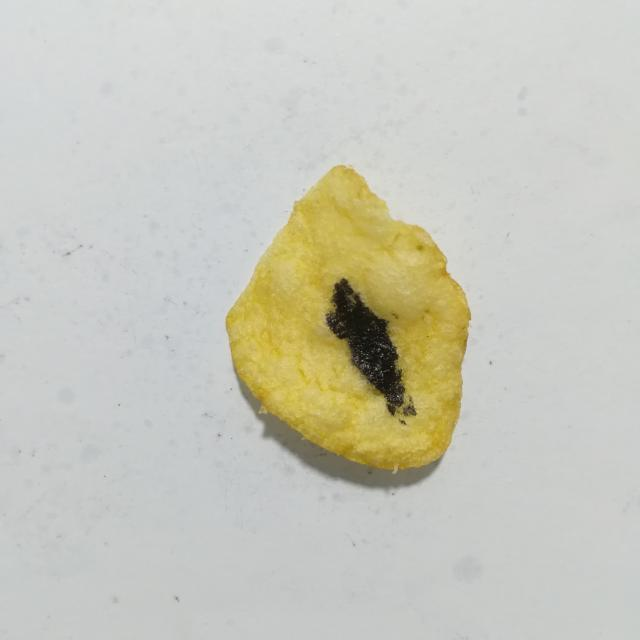chip: (226, 166, 470, 471)
damaged: (326, 278, 405, 415)
semi-damaged: (403, 397, 417, 416), (391, 313, 398, 319), (399, 420, 406, 425)
